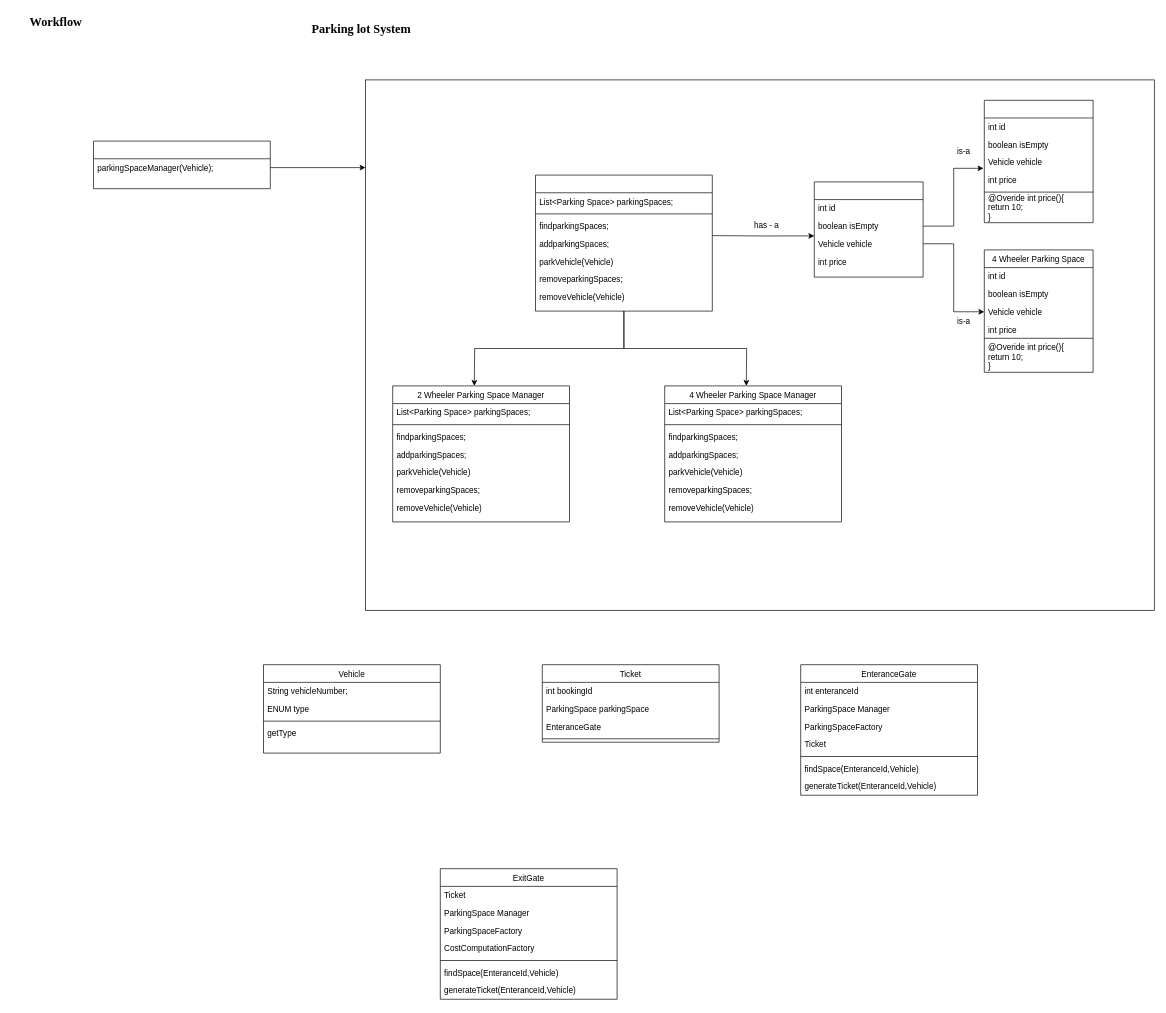
This 1166x1013 diagram has some shape labels left out. The box of each missing label's shape, as (x1, y1, x2, y2) in pixels:
2 Wheeler Parking Space: (984, 100, 1093, 223)
Parking Space: (814, 181, 923, 277)
Parking Space Manager: (535, 174, 712, 311)
Parking Space Manager Factory: (93, 140, 270, 189)
